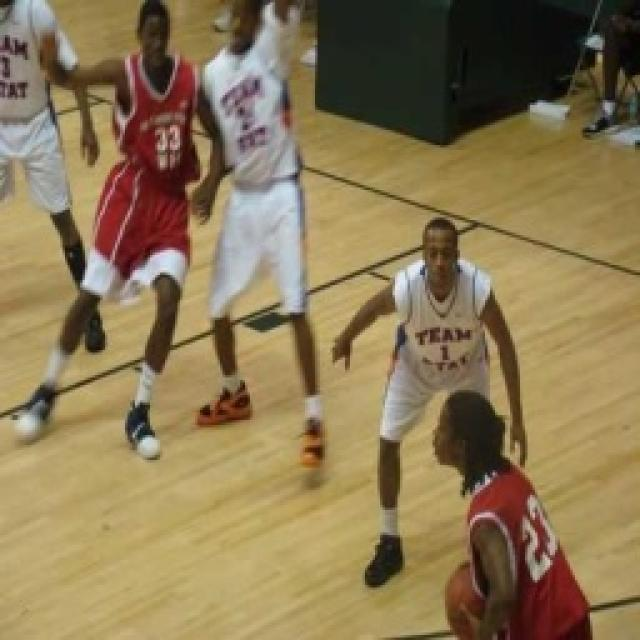rim: (444, 557, 499, 640)
